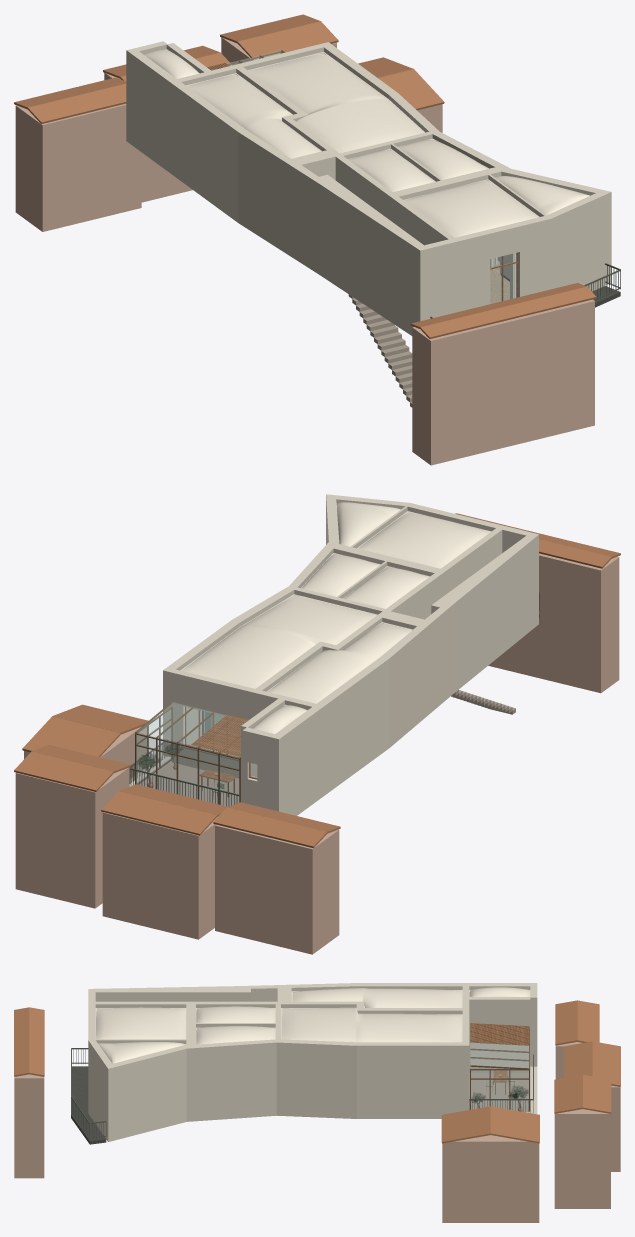
The picture shows the model from 3 angles, top to bottom: view 1: azimuth 30°, elevation 25°; view 2: azimuth 150°, elevation 25°; view 3: azimuth 270°, elevation 25°; orthographic projection. The views are drawn at different scales.
Parts seen in each view (by area): view 1: Murature DOCFA.007, Fabbricato vicino indicativo.004, Fabbricato vicino indicativo, Murature DOCFA.002, Volta ribassata indicativa.002, Murature DOCFA.003, Murature DOCFA.001, Volta ribassata indicativa.005, Volta ribassata indicativa.001, Murature DOCFA.006, Falda vicina.009, Falda vicina.005 (+13 smaller); view 2: Murature DOCFA.007, Fabbricato vicino indicativo, Fabbricato vicino indicativo.001, Fabbricato vicino indicativo.004, Fabbricato vicino indicativo.002, Volta ribassata indicativa.002, Murature DOCFA.002, Murature DOCFA.003, Murature DOCFA.001, Volta ribassata indicativa.001, Volta ribassata indicativa.005, Falda vicina.002 (+23 smaller); view 3: Murature DOCFA.007, Murature DOCFA.002, Fabbricato vicino indicativo.003, Volta ribassata indicativa.002, Fabbricato vicino indicativo.002, Murature DOCFA.003, Murature DOCFA.001, Fabbricato vicino indicativo.004, Volta ribassata indicativa.005, Volta ribassata indicativa.001, Murature DOCFA.006, Murature DOCFA (+24 smaller).
Part boxes in pixels (left/top/right/bottom): Murature DOCFA.007: left=126, top=41, right=611, bottom=275; Fabbricato vicino indicativo.004: left=412, top=299, right=594, bottom=465; Fabbricato vicino indicativo: left=15, top=103, right=141, bottom=231; Murature DOCFA.002: left=126, top=98, right=611, bottom=321; Volta ribassata indicativa.002: left=249, top=53, right=423, bottom=153; Murature DOCFA.003: left=126, top=82, right=611, bottom=298; Murature DOCFA.001: left=126, top=123, right=611, bottom=330; Volta ribassata indicativa.005: left=404, top=180, right=538, bottom=237; Volta ribassata indicativa.001: left=187, top=74, right=321, bottom=158; Murature DOCFA.006: left=126, top=76, right=611, bottom=281; Falda vicina.009: left=420, top=286, right=596, bottom=338; Falda vicina.005: left=237, top=21, right=338, bottom=60; Murature DOCFA.007: left=163, top=494, right=538, bottom=764; Fabbricato vicino indicativo: left=215, top=824, right=339, bottom=954; Fabbricato vicino indicativo.001: left=102, top=812, right=217, bottom=939; Fabbricato vicino indicativo.004: left=488, top=553, right=619, bottom=693; Fabbricato vicino indicativo.002: left=15, top=767, right=129, bottom=908; Volta ribassata indicativa.002: left=182, top=595, right=376, bottom=688; Murature DOCFA.002: left=163, top=543, right=538, bottom=810; Murature DOCFA.003: left=163, top=527, right=538, bottom=786; Murature DOCFA.001: left=163, top=606, right=538, bottom=814; Volta ribassata indicativa.001: left=268, top=623, right=411, bottom=703; Volta ribassata indicativa.005: left=358, top=512, right=490, bottom=568; Falda vicina.002: left=101, top=791, right=216, bottom=835; Murature DOCFA.007: left=88, top=983, right=537, bottom=1089; Murature DOCFA.002: left=88, top=1036, right=537, bottom=1127; Fabbricato vicino indicativo.003: left=442, top=1135, right=539, bottom=1222; Volta ribassata indicativa.002: left=282, top=1007, right=461, bottom=1042; Fabbricato vicino indicativo.002: left=554, top=1109, right=610, bottom=1208; Murature DOCFA.003: left=88, top=1023, right=537, bottom=1107; Murature DOCFA.001: left=88, top=1056, right=537, bottom=1137; Fabbricato vicino indicativo.004: left=14, top=1074, right=44, bottom=1178; Volta ribassata indicativa.005: left=96, top=1007, right=185, bottom=1039; Volta ribassata indicativa.001: left=292, top=988, right=461, bottom=1007; Murature DOCFA.006: left=88, top=1007, right=537, bottom=1093; Murature DOCFA: left=88, top=1066, right=537, bottom=1141.
Size of the model in its own units: 16.21 by 8.19 by 31.84.
34 materials, 6 textured.
